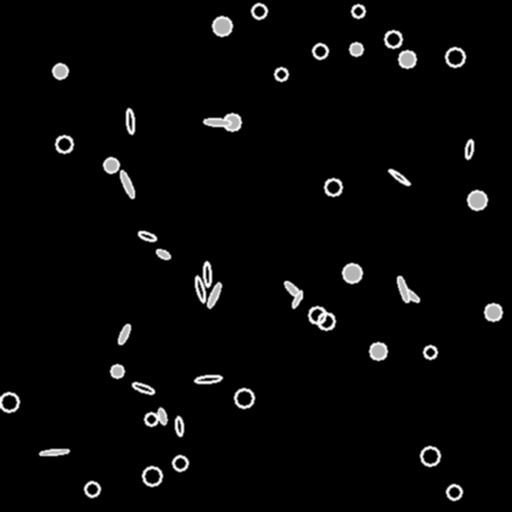pseudomonas: (118, 169, 136, 199), (206, 281, 222, 309), (283, 280, 303, 300), (398, 285, 420, 303), (388, 168, 410, 186), (396, 276, 410, 302), (131, 381, 155, 395), (194, 276, 206, 302), (117, 323, 131, 345), (137, 229, 157, 243), (40, 448, 68, 456), (194, 375, 222, 383), (155, 247, 171, 261), (291, 290, 303, 308), (156, 407, 168, 425), (204, 118, 230, 126), (126, 108, 134, 134), (203, 262, 211, 286), (175, 416, 183, 436), (465, 140, 473, 158)
synechocystis: (468, 191, 486, 209), (0, 393, 18, 411), (421, 447, 439, 465), (143, 467, 161, 485), (446, 48, 464, 66), (343, 264, 361, 282), (213, 17, 231, 35), (235, 389, 253, 407), (318, 313, 334, 329), (485, 304, 501, 320), (325, 179, 341, 195), (56, 136, 72, 152), (399, 51, 415, 67), (224, 114, 240, 130), (385, 31, 401, 47), (309, 307, 325, 323), (370, 343, 386, 359), (53, 64, 67, 78), (252, 4, 266, 18), (85, 482, 99, 496), (447, 485, 461, 499), (313, 44, 327, 58), (173, 456, 187, 470), (104, 158, 118, 172), (145, 413, 157, 425), (350, 43, 362, 55), (352, 5, 364, 17), (275, 68, 287, 80), (111, 365, 123, 377), (424, 346, 436, 358)
